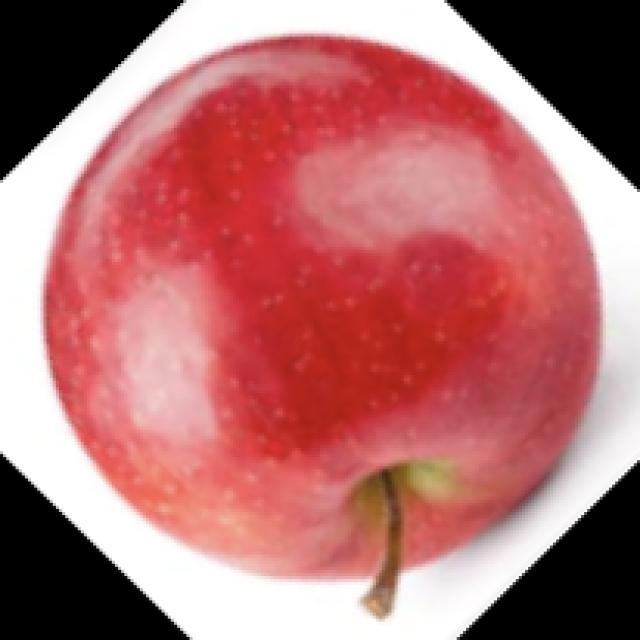Fresh Apple: (70, 45, 617, 563)
